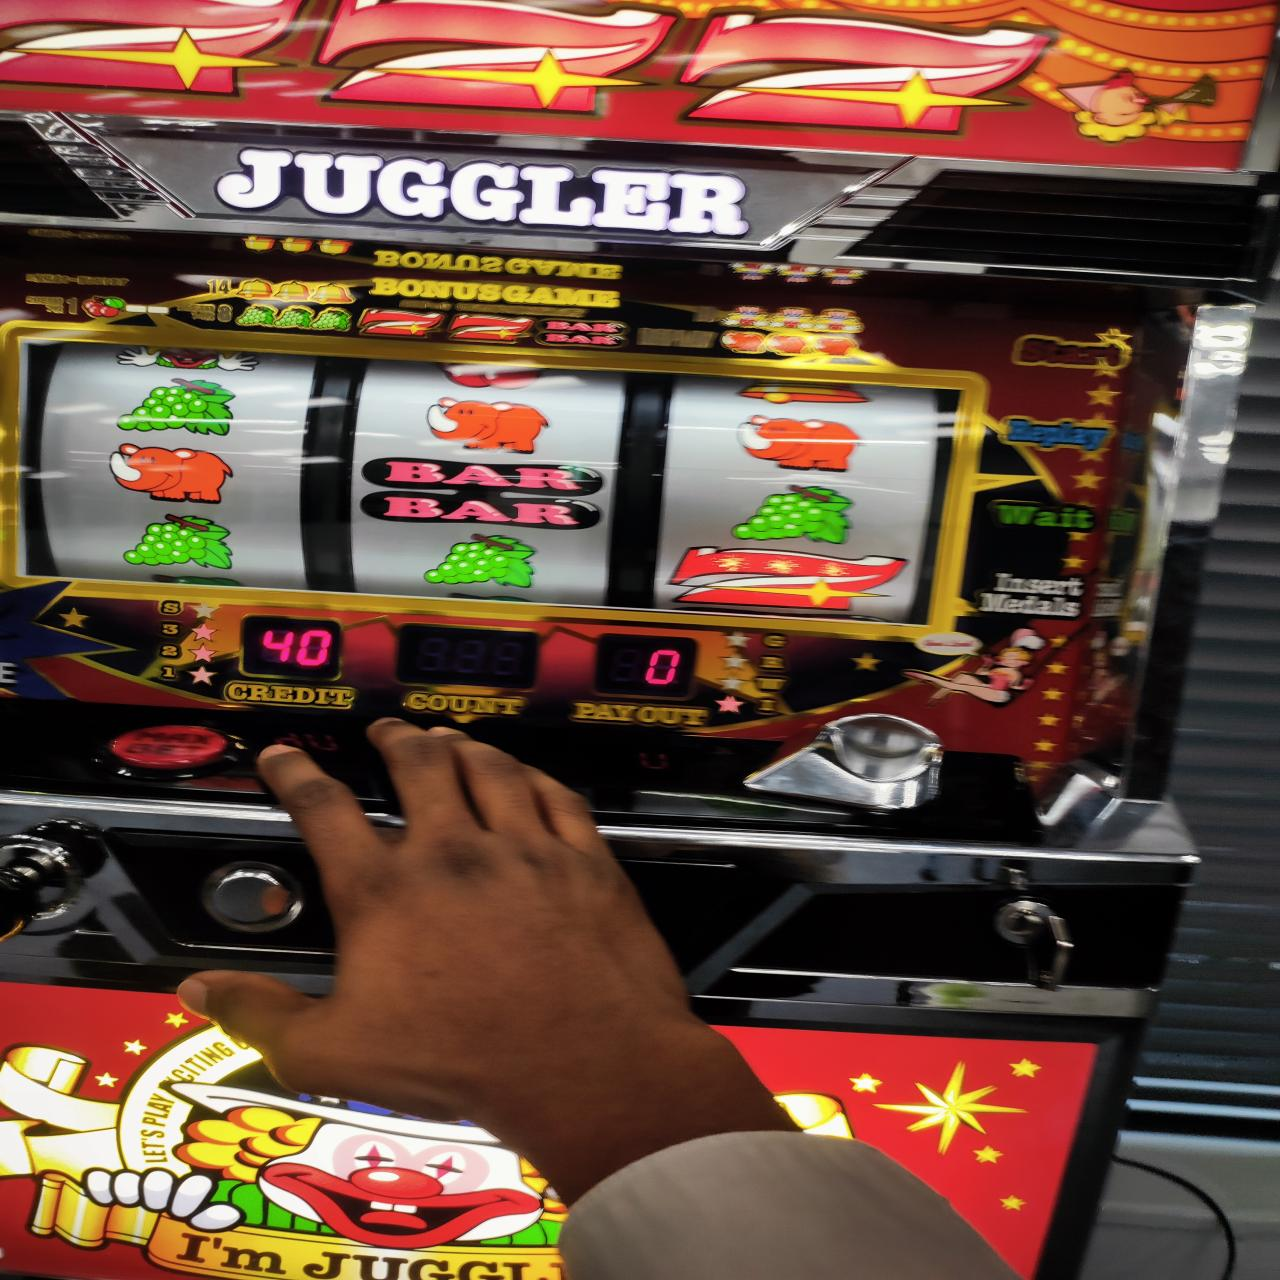7: (673, 544, 914, 617)
8: (109, 441, 233, 504), (735, 411, 867, 470), (427, 395, 546, 452)
Display: (15, 334, 961, 625)
bar: (361, 457, 601, 533)
rhino: (730, 483, 855, 545), (116, 377, 239, 434), (124, 515, 233, 568), (423, 532, 536, 584)
